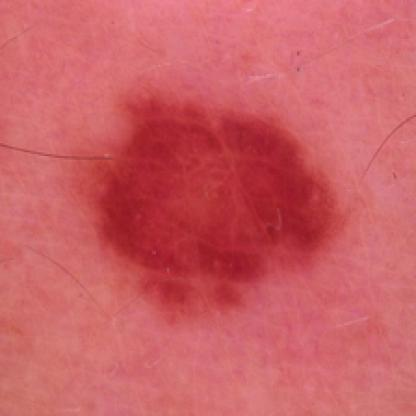benign: (93, 82, 360, 306)
